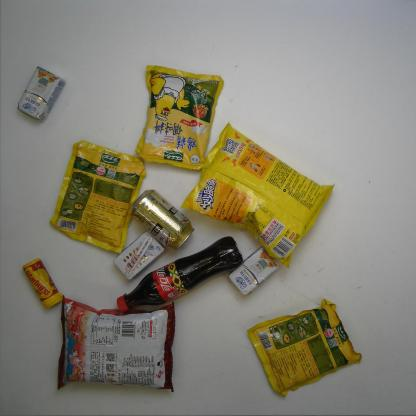Alcohol: (126, 189, 198, 250)
Candy: (18, 255, 66, 310)
Drink: (115, 234, 244, 316)
Milk: (17, 62, 70, 124), (108, 228, 166, 282), (227, 241, 281, 299)
Puffed Food: (180, 122, 341, 269), (56, 294, 180, 398)
Seasoner: (244, 298, 370, 400), (45, 138, 152, 254), (132, 61, 229, 173)
